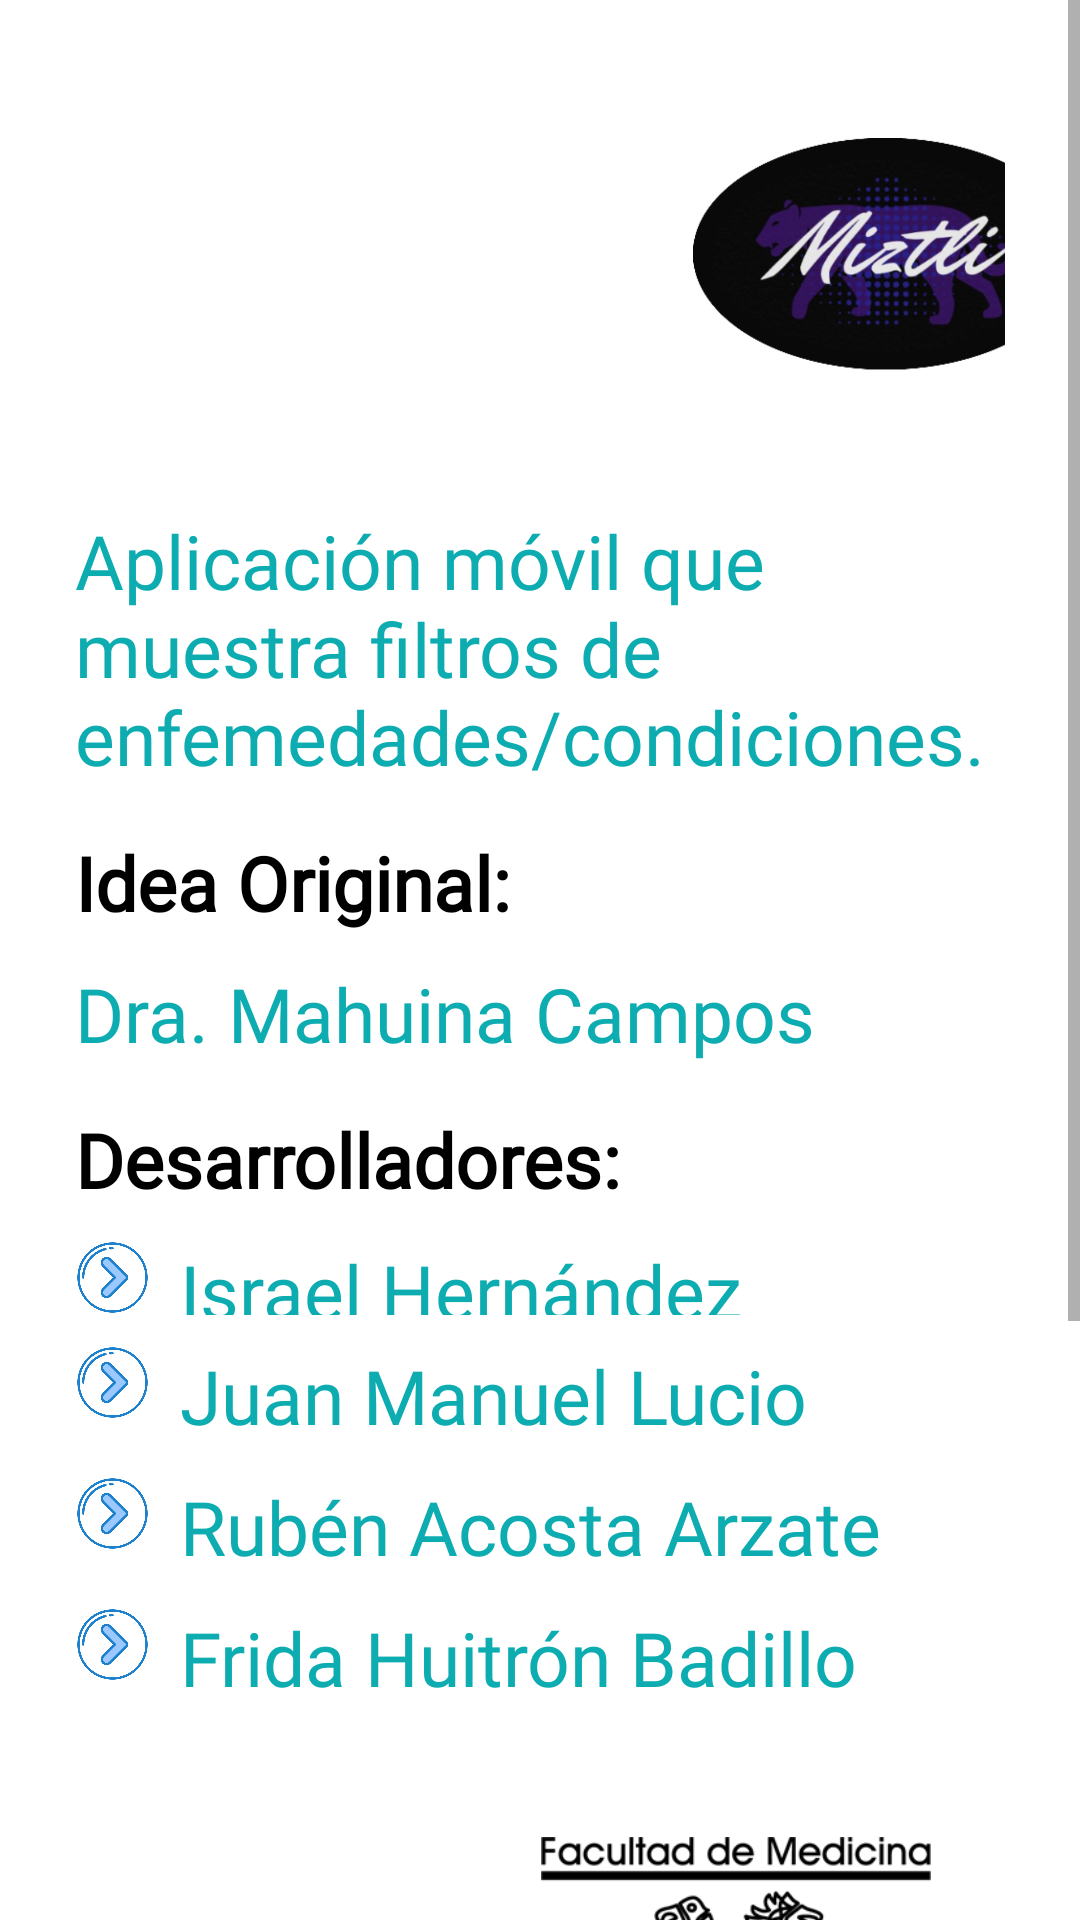

Icon click points for this 1080×1920 phone screenshot, format (x,y):
flecha lista: (112,1277), (112,1382), (112,1513), (112,1644)
